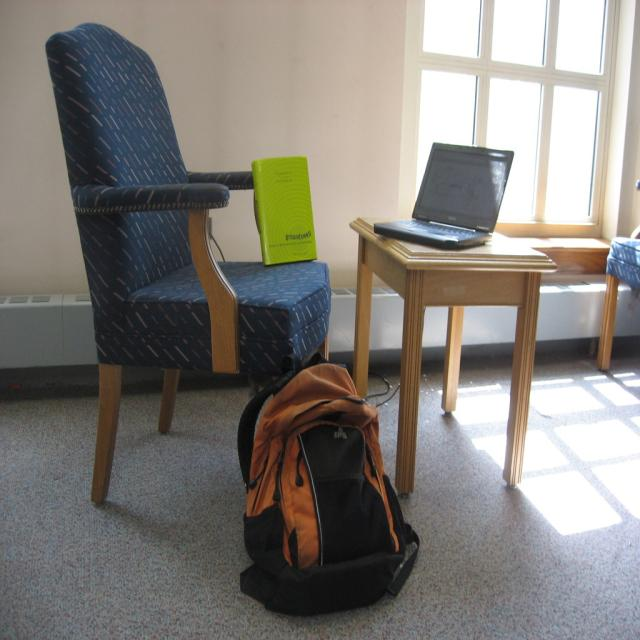Laptop: (390, 140, 524, 248)
